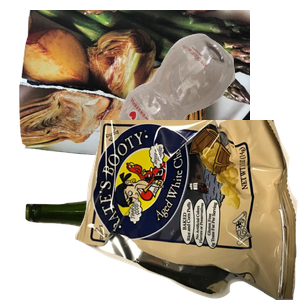glass: (23, 186, 249, 300)
paper: (16, 10, 256, 172)
plastic: (99, 31, 300, 189)
trash: (75, 120, 300, 300)
